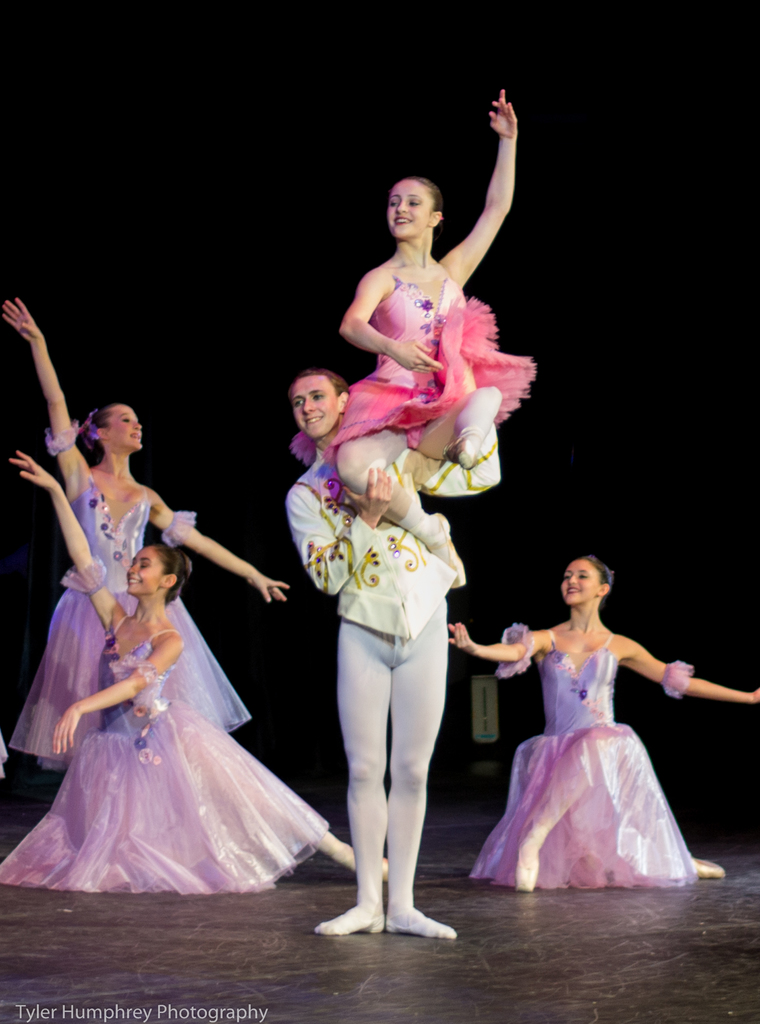Person: (0, 451, 392, 892), (2, 293, 294, 762), (284, 352, 501, 936), (292, 90, 536, 591), (446, 557, 760, 891)
